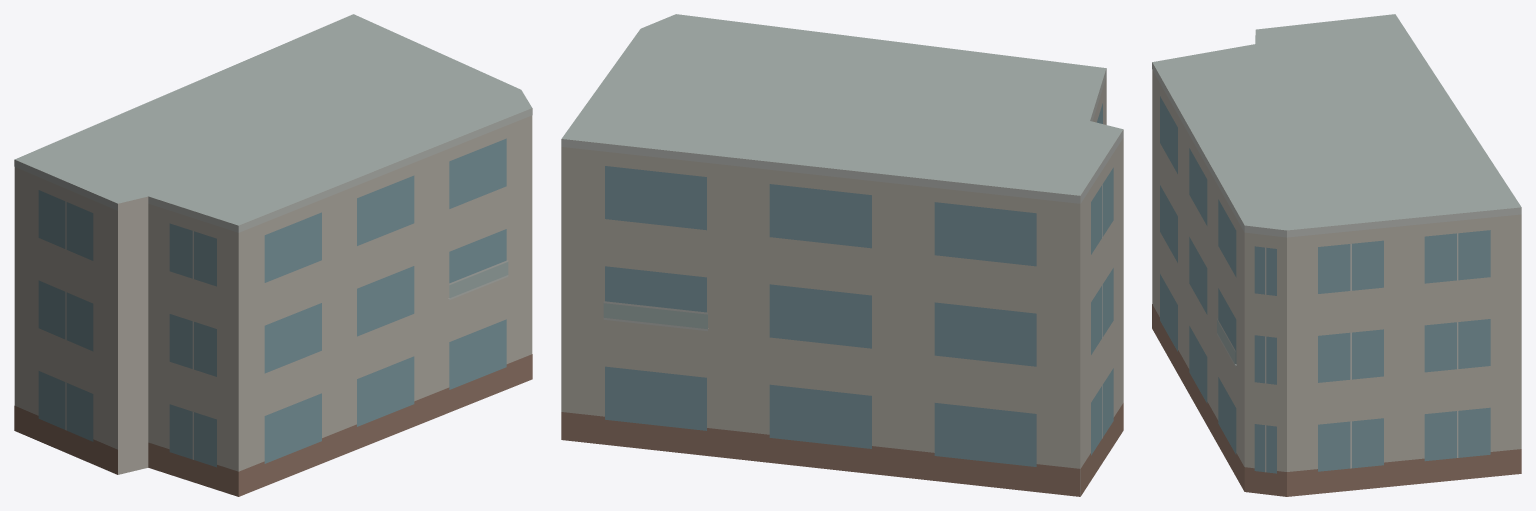
Rendered from survey-upis-32660171.glb.
The picture shows the model from 3 angles, left to right: view 1: azimuth 30°, elevation 25°; view 2: azimuth 150°, elevation 25°; view 3: azimuth 270°, elevation 25°; orthographic projection. The views are drawn at different scales.
Visible parts, largest first — view 1: survey-upis-32660171.tmp; view 2: survey-upis-32660171.tmp; view 3: survey-upis-32660171.tmp.
Part boxes in pixels (left/top/right/bottom): survey-upis-32660171.tmp: left=14, top=14, right=532, bottom=496; survey-upis-32660171.tmp: left=561, top=14, right=1123, bottom=496; survey-upis-32660171.tmp: left=1152, top=14, right=1521, bottom=496.
Bounding box in the file's own units: 15.95 × 9.15 × 11.51.
